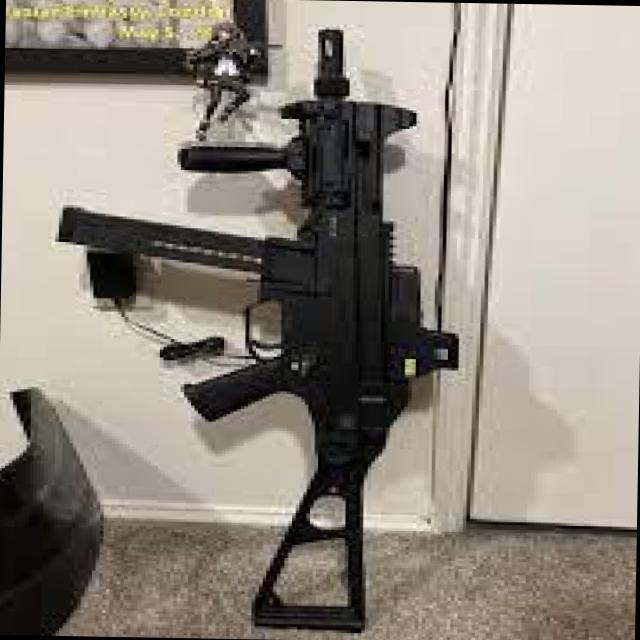Gun: (65, 12, 446, 640)
